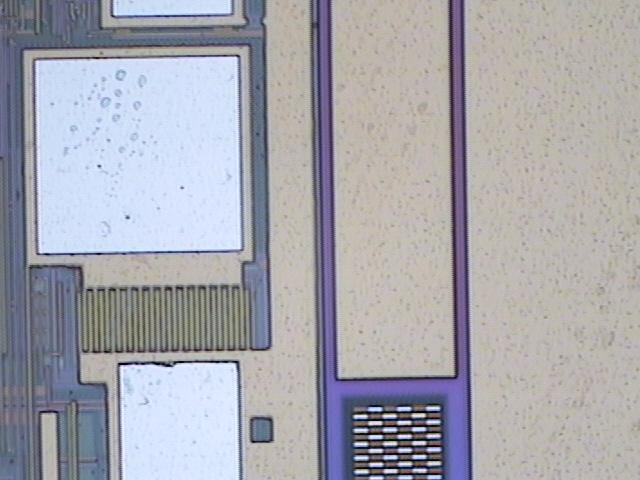PO CONTAMINATION: (63, 68, 238, 239)
